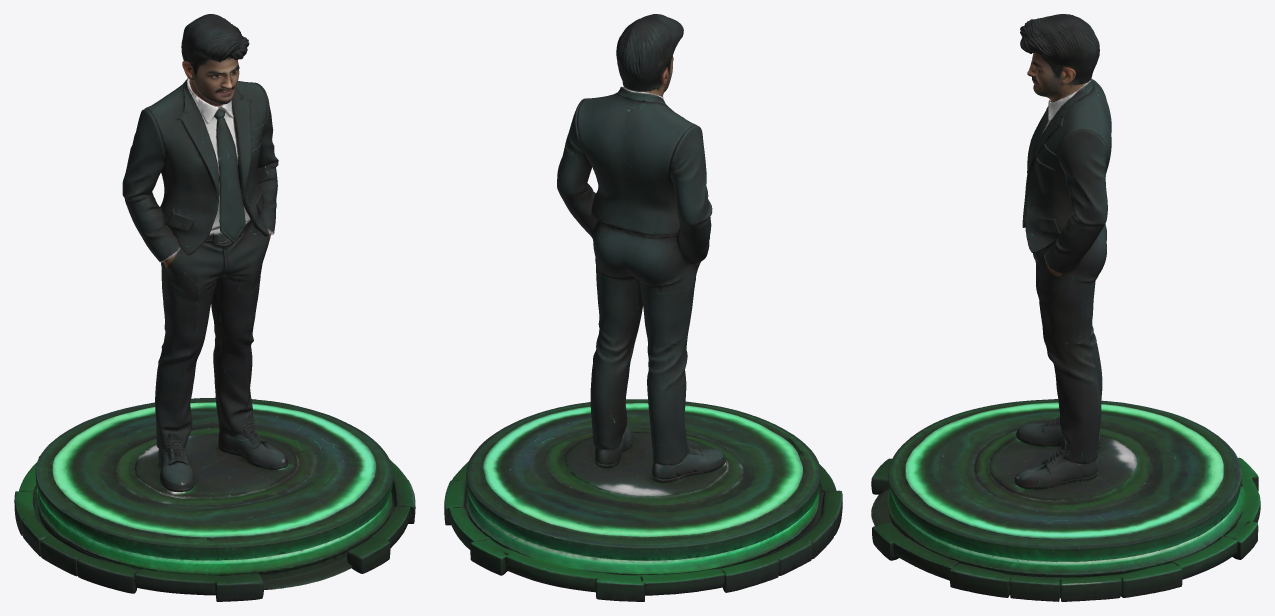
The model's file is avatar-v2.glb.
3 views of the same model, side by side, from view 1: azimuth 30°, elevation 25°; view 2: azimuth 150°, elevation 25°; view 3: azimuth 270°, elevation 25° (orthographic).
Parts seen in each view (by area): view 1: tmppzc_s9w5obj; view 2: tmppzc_s9w5obj; view 3: tmppzc_s9w5obj.
Boxes of the visible parts, <box> form: tmppzc_s9w5obj: <box>14,14,415,601</box>; tmppzc_s9w5obj: <box>444,14,842,601</box>; tmppzc_s9w5obj: <box>871,14,1260,601</box>.
Size of the model in its own units: 0.7247 by 1 by 0.7053.
1 material, 1 textured.
